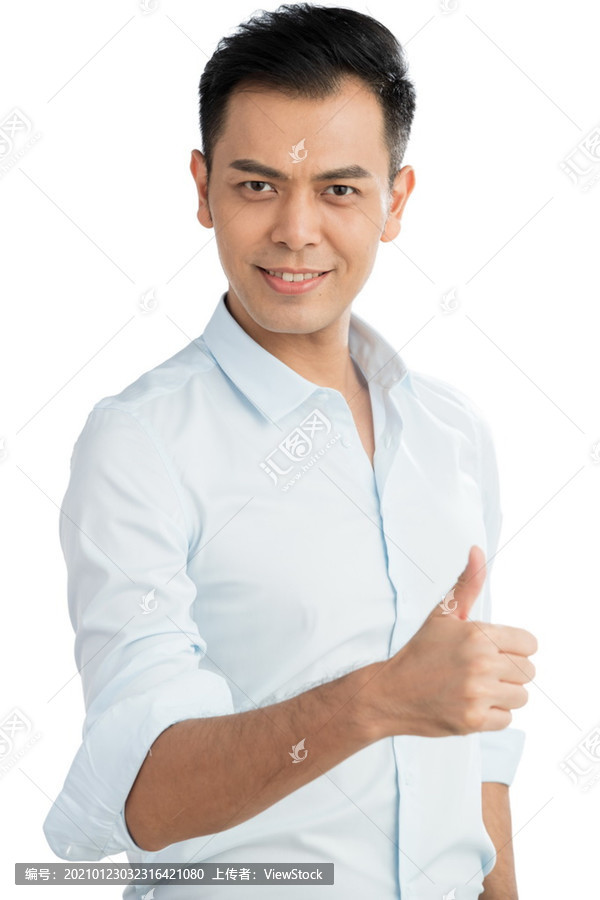no-phone: (364, 522, 555, 777)
